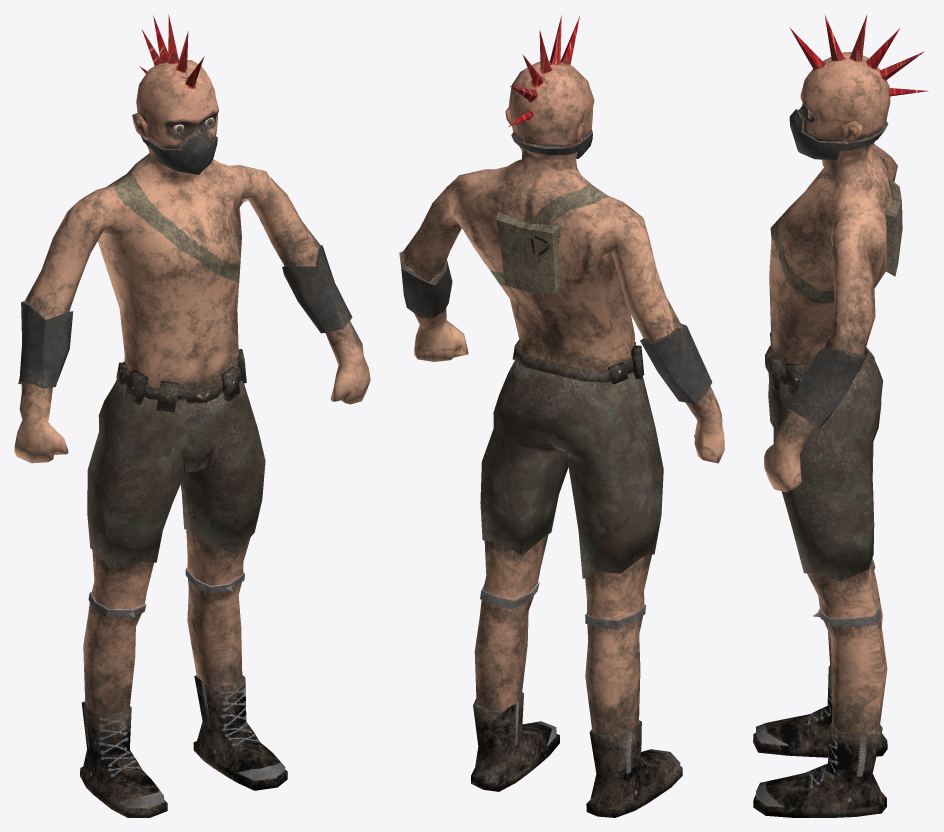
The model's file is Anim_idle_npc2.0051.obj.
3 views of the same model, side by side, from view 1: azimuth 30°, elevation 25°; view 2: azimuth 150°, elevation 25°; view 3: azimuth 270°, elevation 25° (orthographic). The views are drawn at different scales.
Parts seen in each view (by area): view 1: polySurface1; view 2: polySurface1; view 3: polySurface1.
Boxes of the visible parts, box(x1,y1,x2,y2) form: polySurface1: box(14, 14, 370, 817); polySurface1: box(399, 15, 724, 817); polySurface1: box(753, 14, 928, 817).
Bounding box in the file's own units: 4.67 × 10.17 × 2.12.
